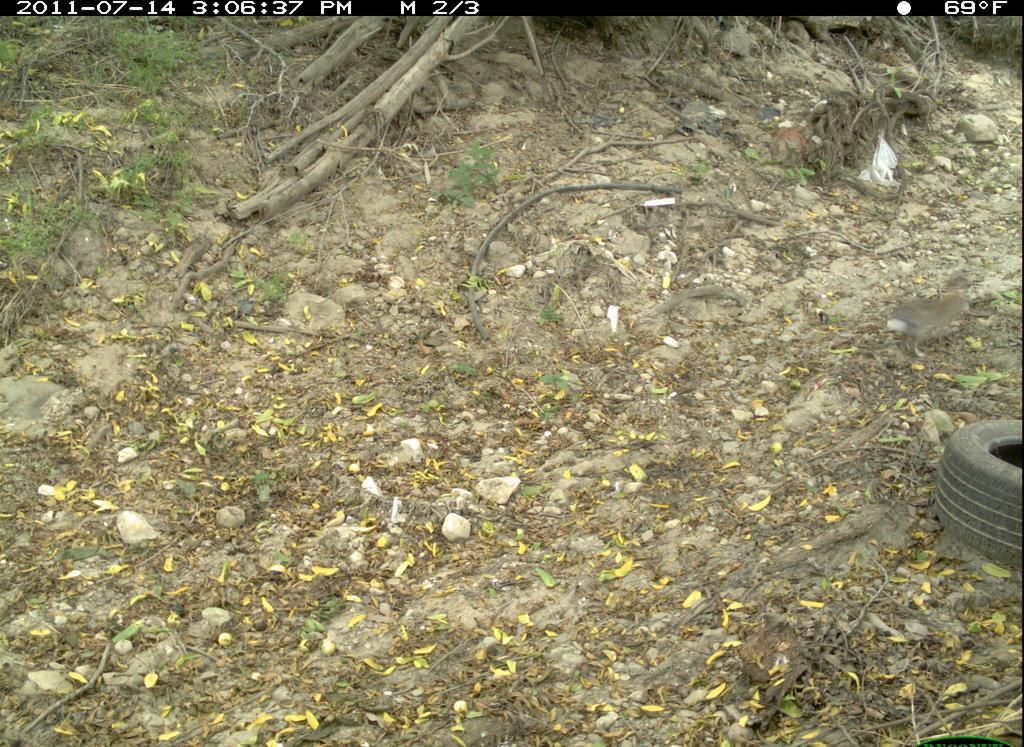rabbit: (868, 280, 978, 367)
